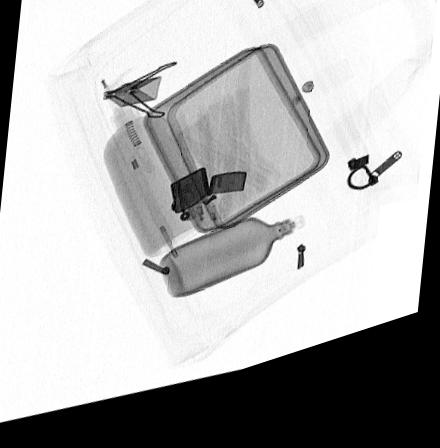Lighter: (169, 180, 247, 233)
